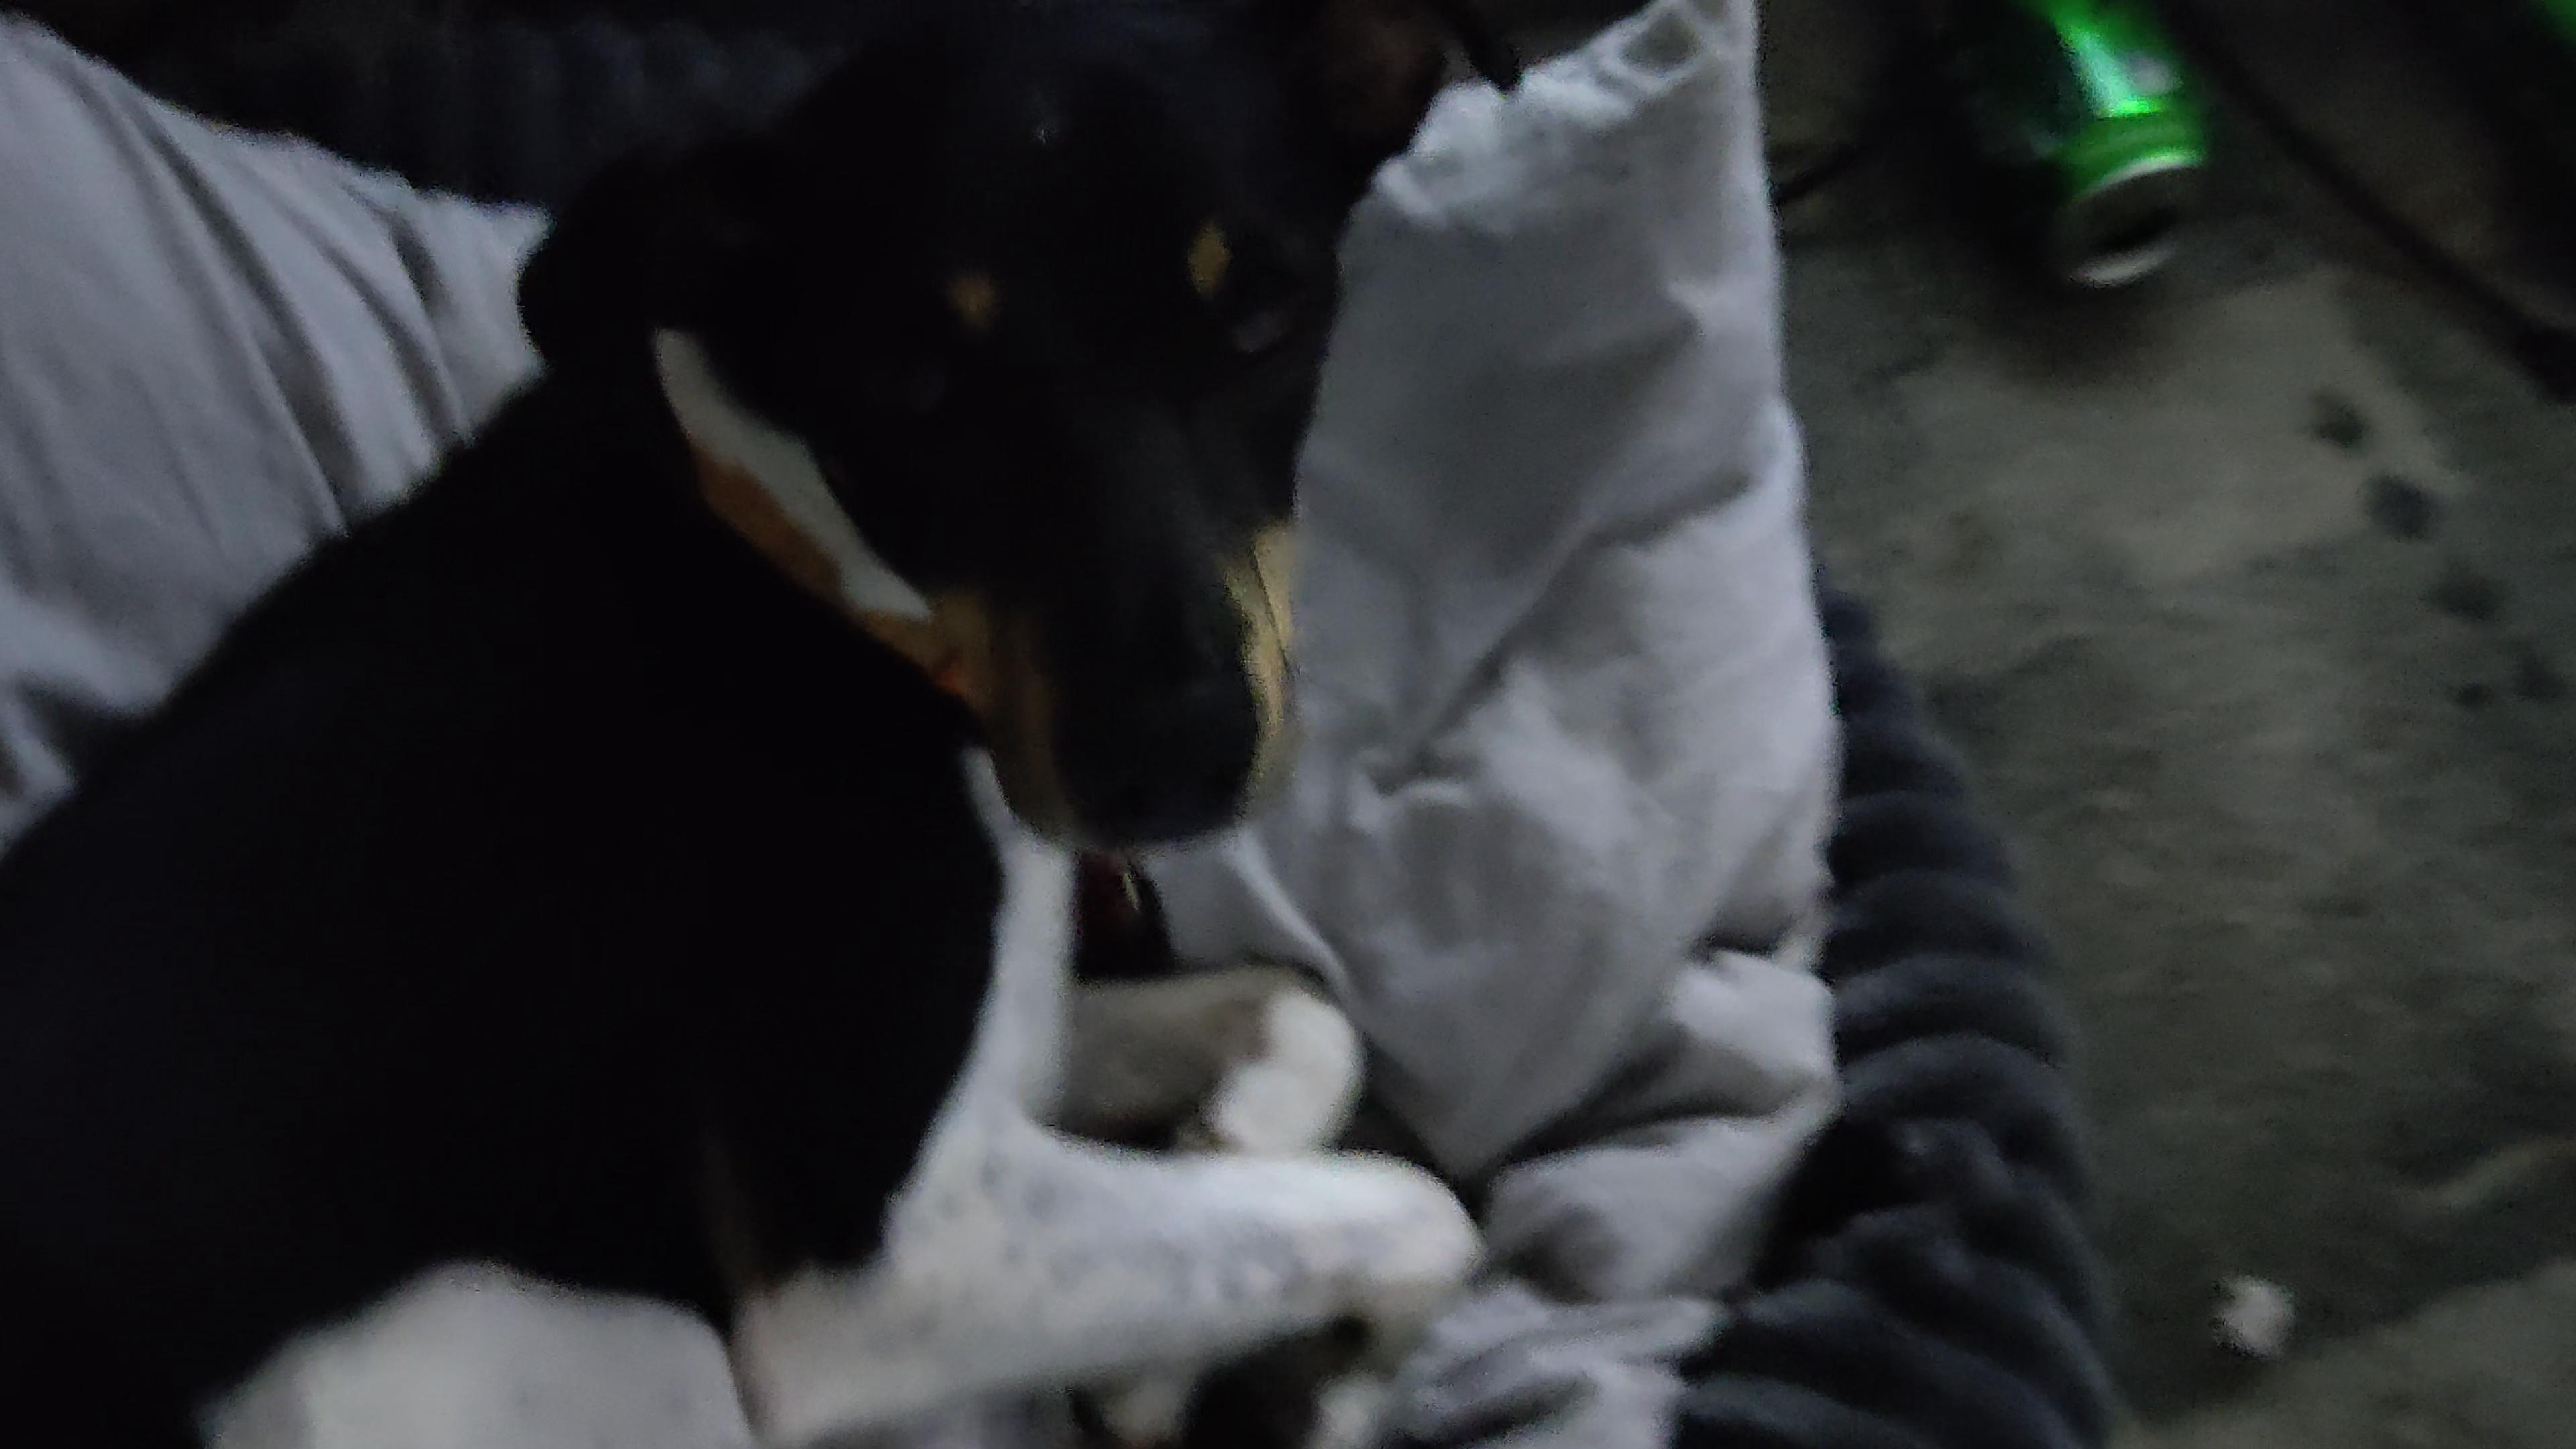Dog: (0, 0, 1539, 1449)
